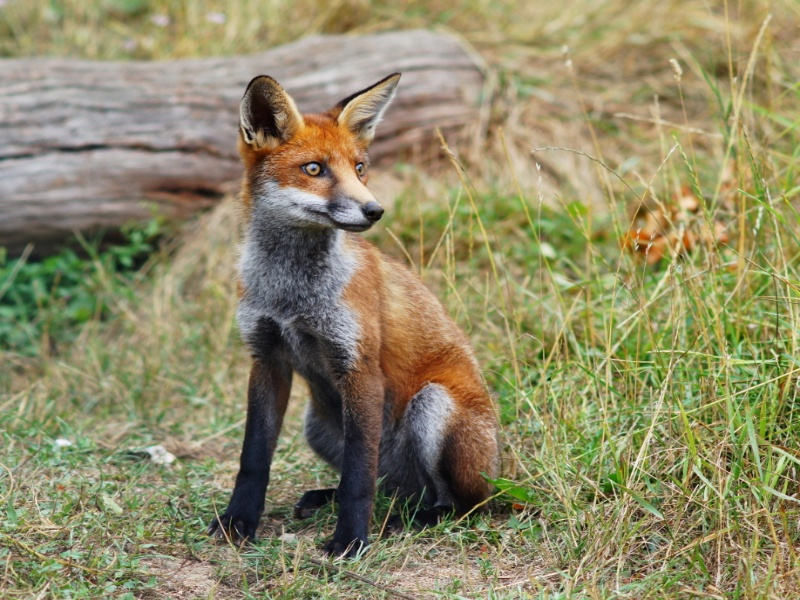fox: (207, 69, 522, 564)
